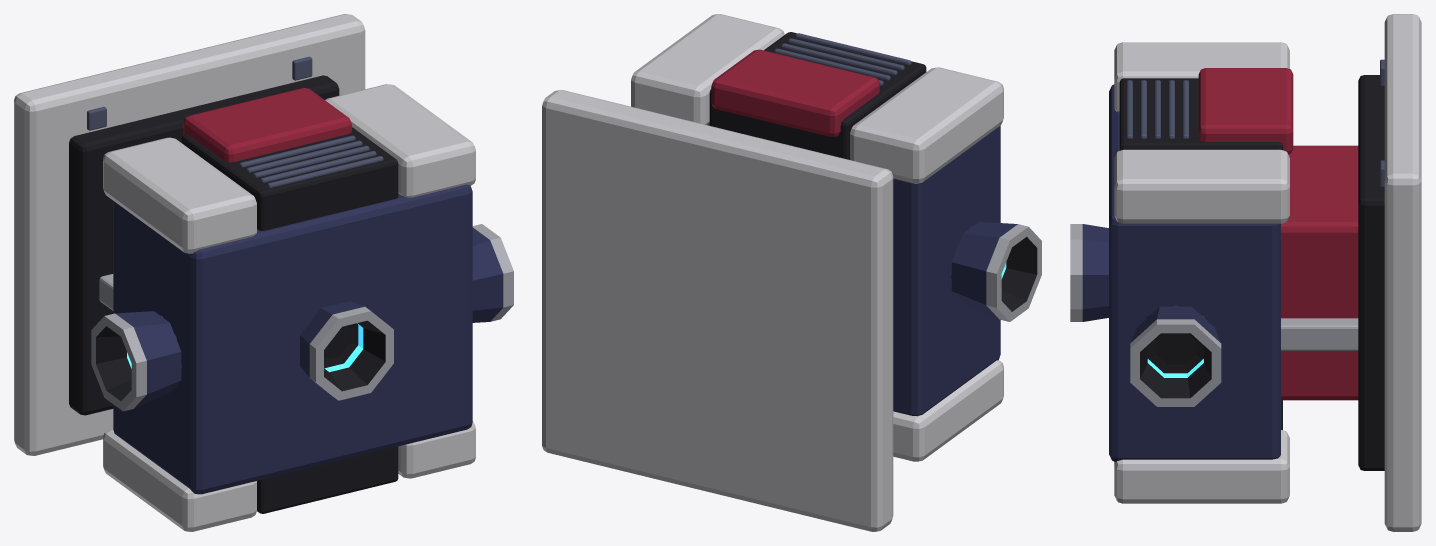
Rendered from rcs.md.glb.
3 renders of one model, left to right at view 1: azimuth 30°, elevation 25°; view 2: azimuth 150°, elevation 25°; view 3: azimuth 270°, elevation 25°, orthographic.
Visible parts, largest first — view 1: GEO-wayfarer-rcs-md; view 2: GEO-wayfarer-rcs-md; view 3: GEO-wayfarer-rcs-md.
Boxes of the visible parts, x1,y1,x2,y2 form: GEO-wayfarer-rcs-md: (14, 14, 513, 531); GEO-wayfarer-rcs-md: (542, 14, 1041, 531); GEO-wayfarer-rcs-md: (1070, 14, 1421, 531).
Bounding box in the file's own units: 1.25 × 1.12 × 1.
